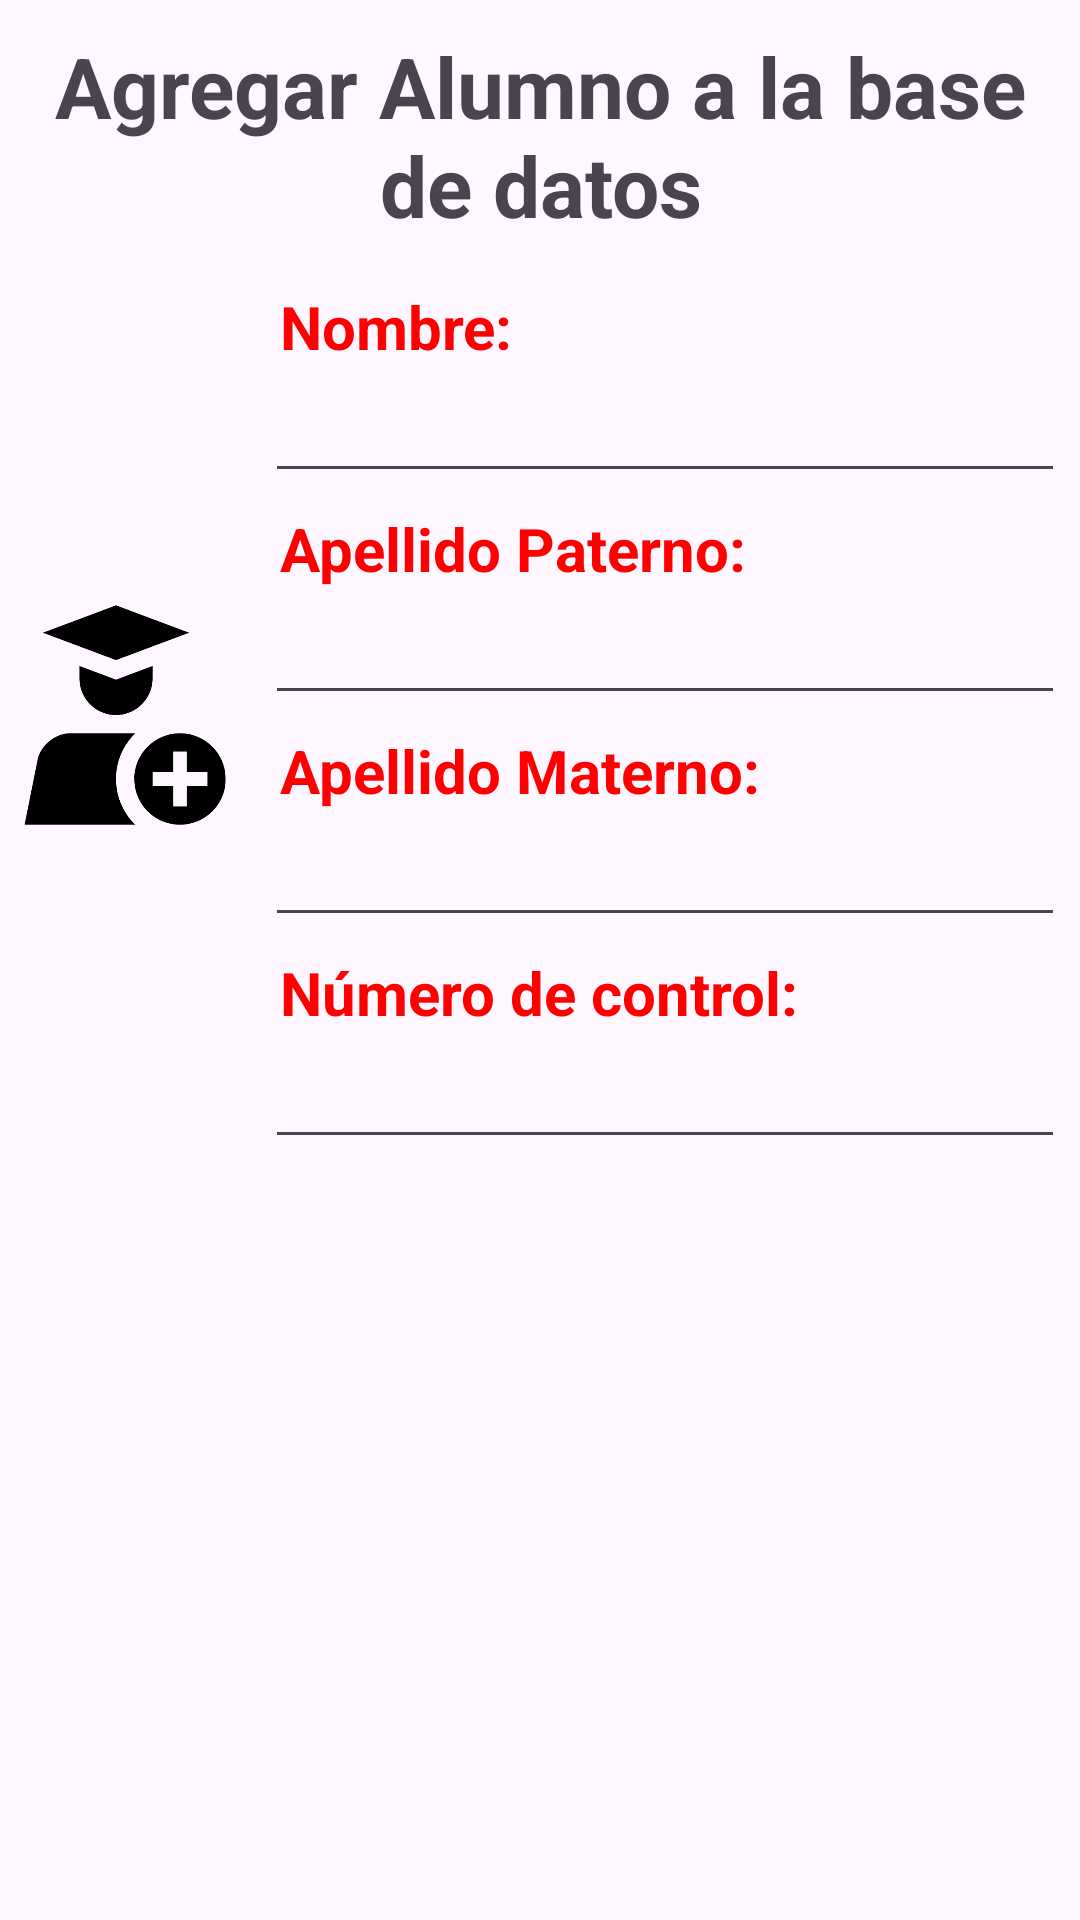

Icons on this 1080 × 1920 Android screen, each with the point to tap as (x,y):
agregar alumno: (125,715)
